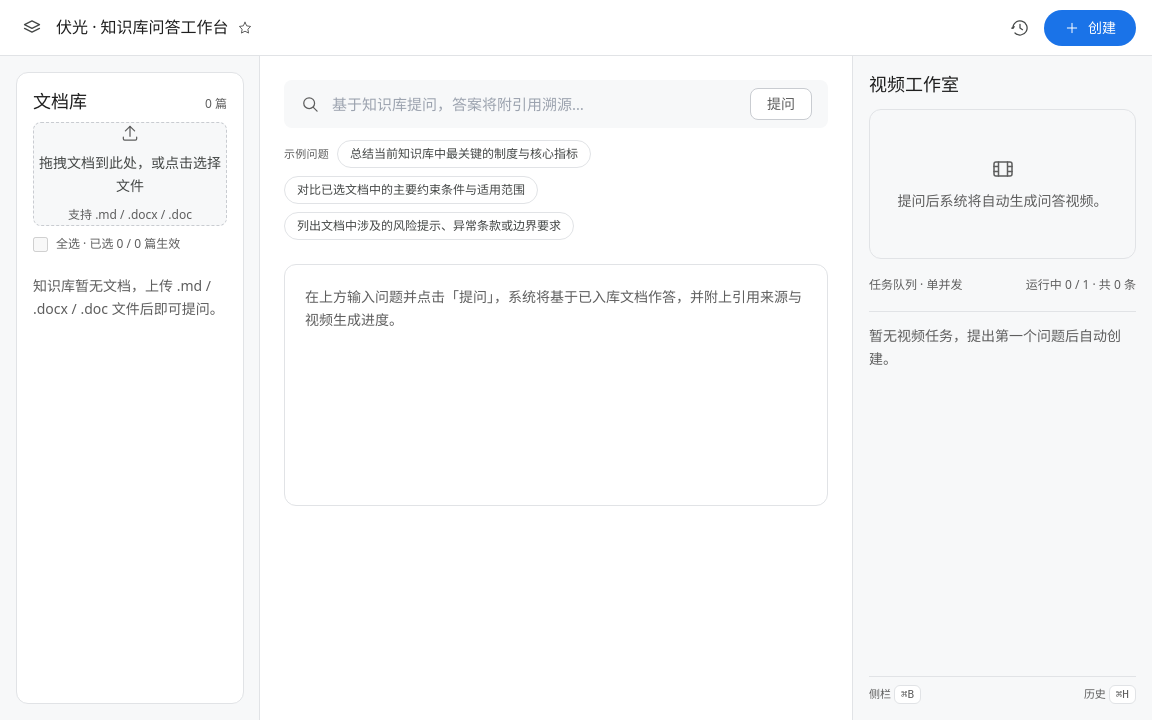
Test: App 三栏工作台 › 三栏标题与顶栏「+ 创建」均渲染
Expected: the heading "伏光 · 知识库问答工作台" is shown, x1=56 y1=16 x2=229 y2=39
Expected: the heading "文档库" is shown, x1=33 y1=89 x2=87 y2=114
// 顶栏历史按钮可点击打开抽屉
Click the button named "历史问答": click(1020, 28) x1=1004 y1=12 x2=1036 y2=44
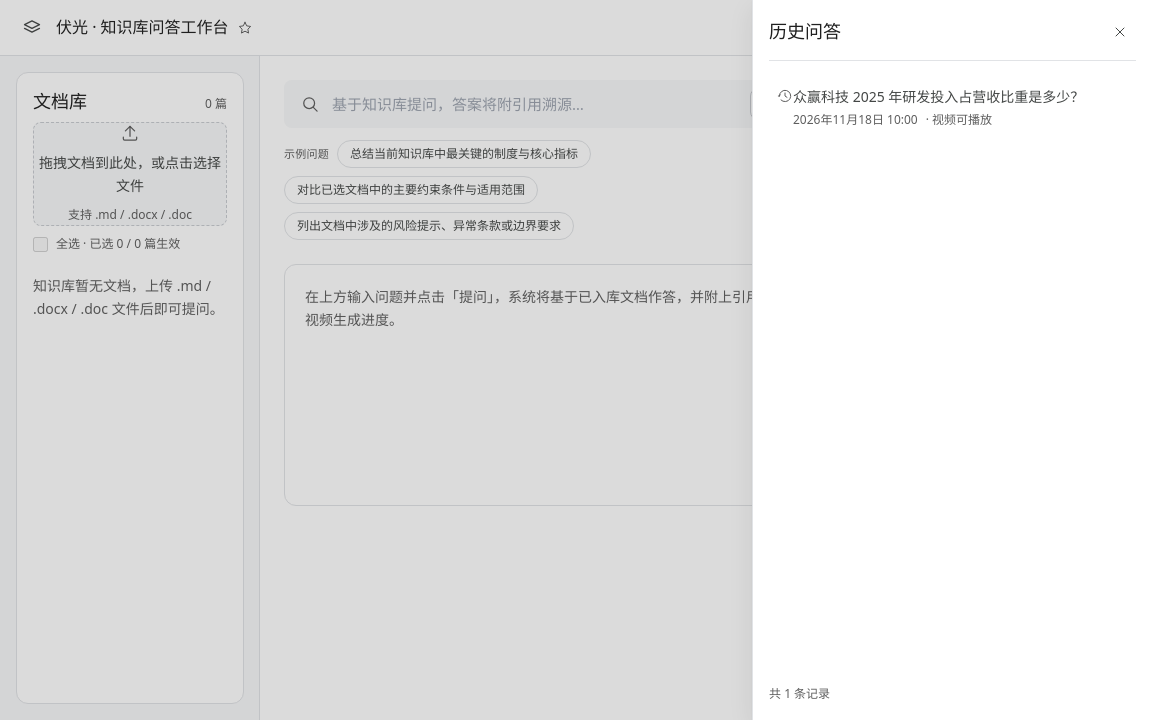
Result: the text "共 1 条记录" is shown at x1=769 y1=685 x2=830 y2=702
Result: the dialog shows "众赢科技 2025 年研发投入占营收比重是多少？" at x1=777 y1=85 x2=1092 y2=130
